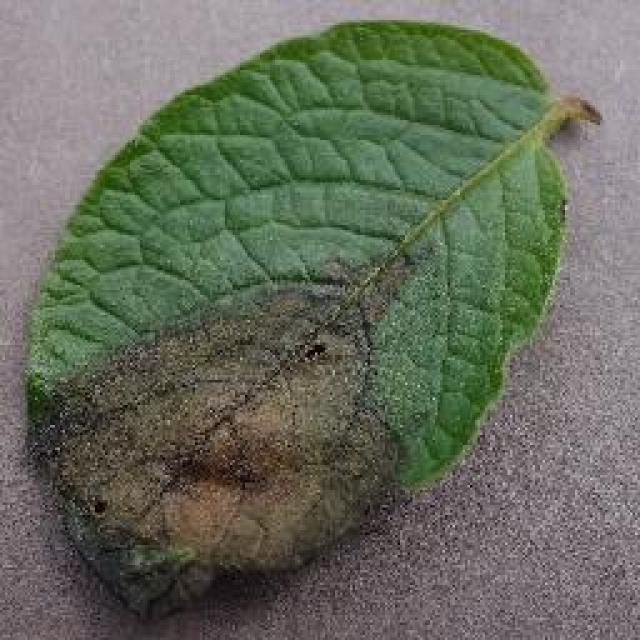Potato___Late_blight: (24, 16, 609, 634)
